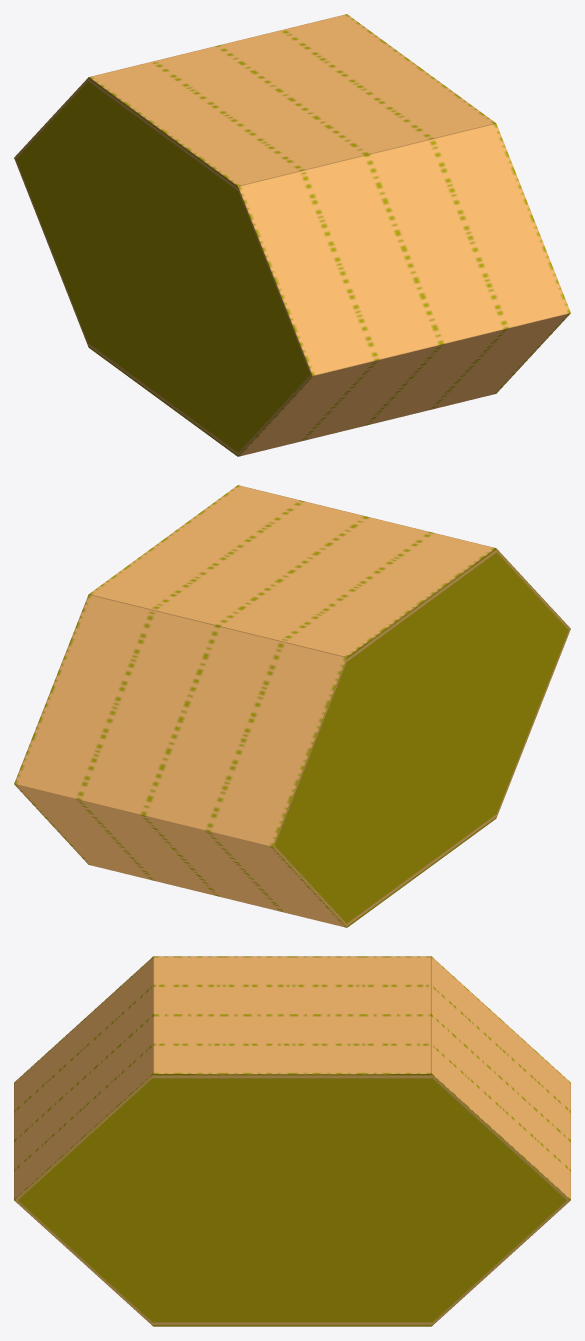
Rendered from Ramp2.fbx.
The picture shows the model from 3 angles, top to bottom: view 1: azimuth 30°, elevation 25°; view 2: azimuth 150°, elevation 25°; view 3: azimuth 270°, elevation 25°; orthographic projection. The views are drawn at different scales.
Parts seen in each view (by area): view 1: Cube; view 2: Cube; view 3: Cube.
Part boxes in pixels (x1,y1,x2,y2): Cube: (14, 14, 570, 456); Cube: (14, 485, 570, 927); Cube: (14, 956, 570, 1326).
Size of the model in its own units: 9.6 by 4.8 by 4.8.
